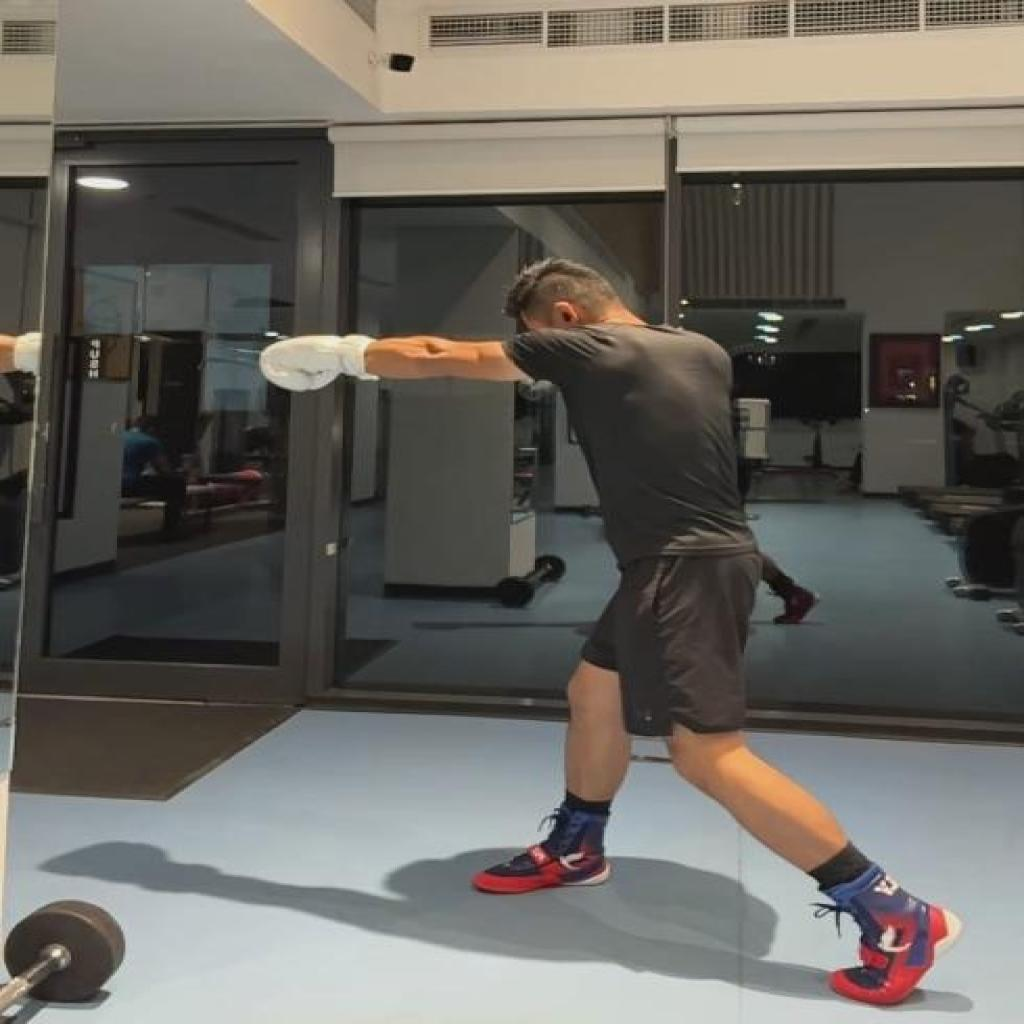cross: (255, 254, 968, 1018)
